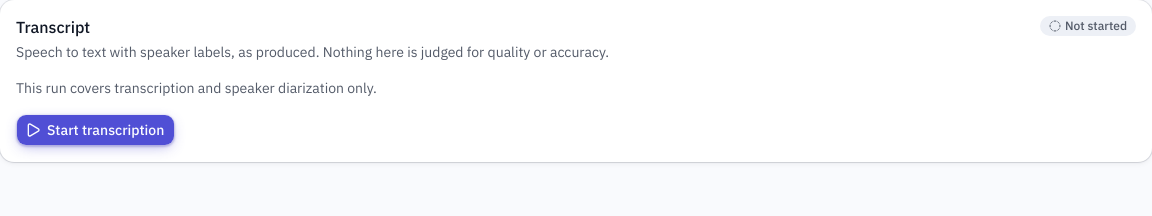
Scenario: actions › explains a 409 on start in plain language
The image size is (1152, 216).
Step 1. Click the button "Start transcription" → (96, 130), box [16,114,175,146]
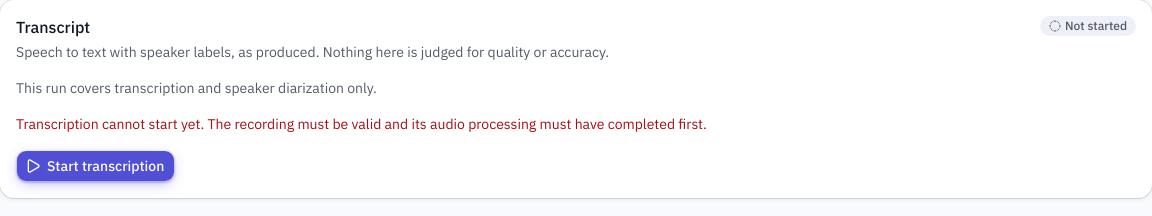
Check: the text "Not started" is shown, box [1040,16,1136,36]
Check: the message shows "audio processing must have completed first", box [16,115,707,133]
